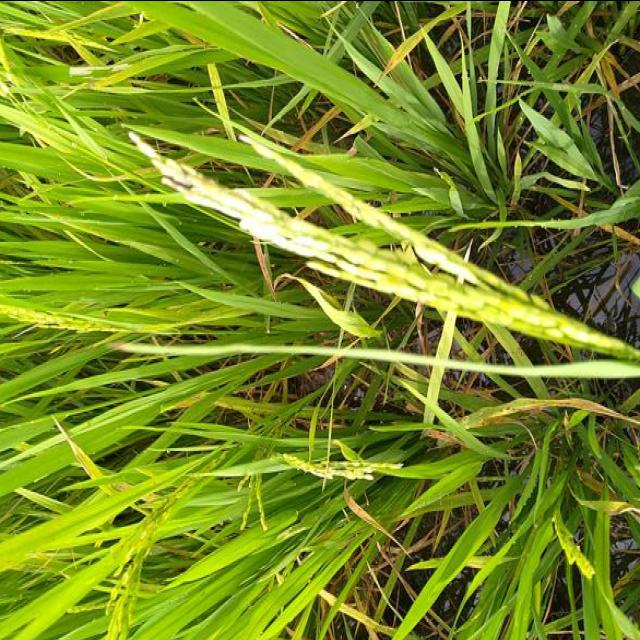Panicle Blight: (130, 132, 310, 254), (417, 244, 478, 285)
